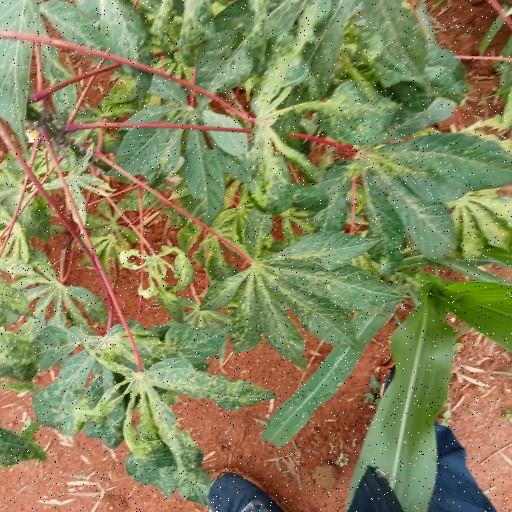Cassava_Mosaic: (203, 192, 401, 374), (30, 327, 265, 469), (337, 130, 512, 260), (254, 52, 330, 206)
